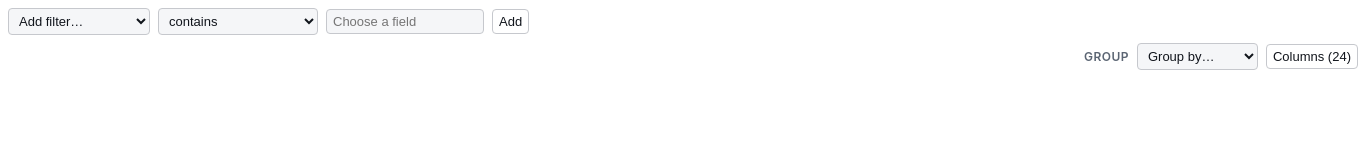
GridToolbar filter draft › offers exact multi-select operators for categorical columns only
This screenshot has width=1366, height=160.
Select "Match" in the dropdown named "Filter column" at {"x": 79, "y": 22}, box [8,8,150,35]
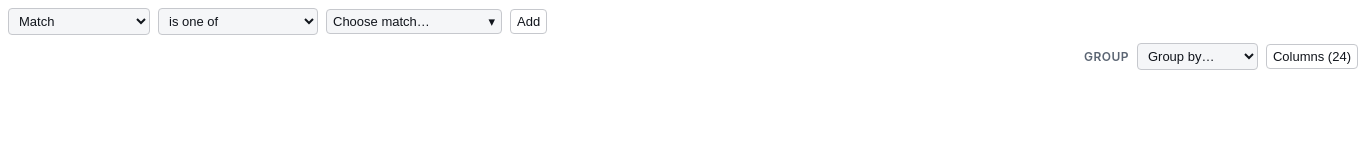
Now the button with aria-label "Filter values" is shown, box [326,9,502,34]
Select "Spend" in the dropdown named "Filter column" at {"x": 79, "y": 22}, box [8,8,150,35]
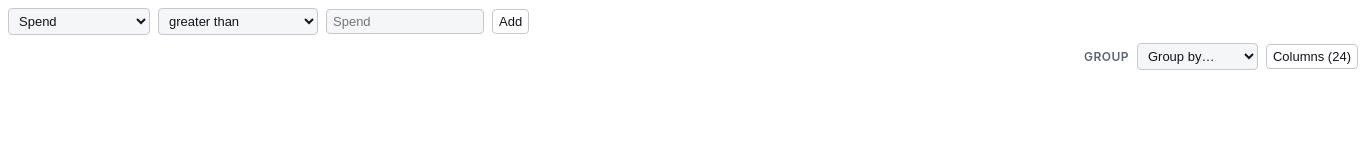
Now the field named "Filter value" is shown, box [326,9,484,34]
